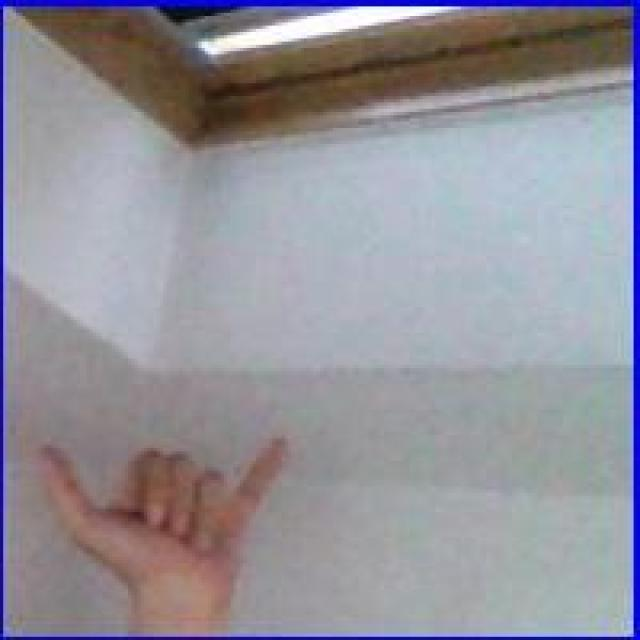Y: (32, 432, 294, 618)
